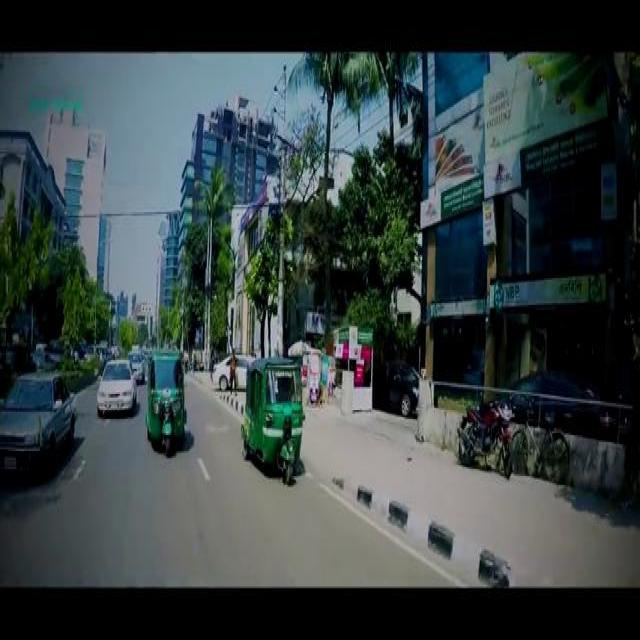bike: (459, 402, 512, 475), (511, 420, 571, 479)
vehicle: (241, 359, 304, 484), (1, 368, 75, 470), (145, 353, 187, 458), (97, 359, 137, 411), (211, 350, 252, 388), (127, 349, 145, 383)
